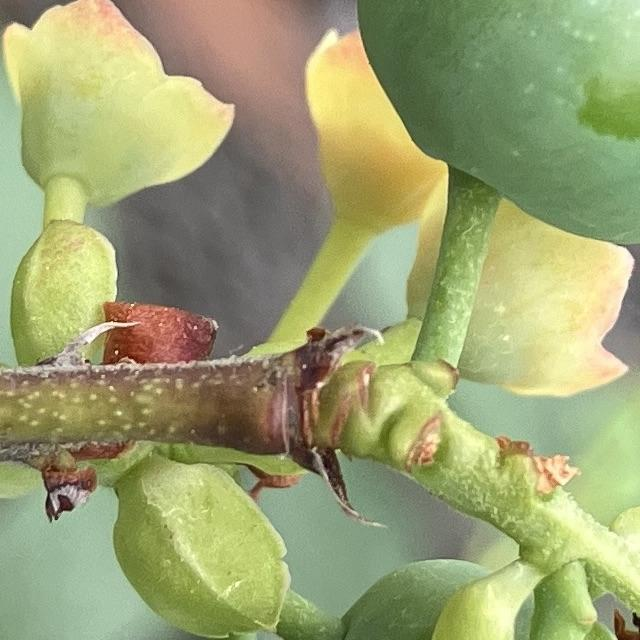Blueberries: (350, 0, 640, 247)
